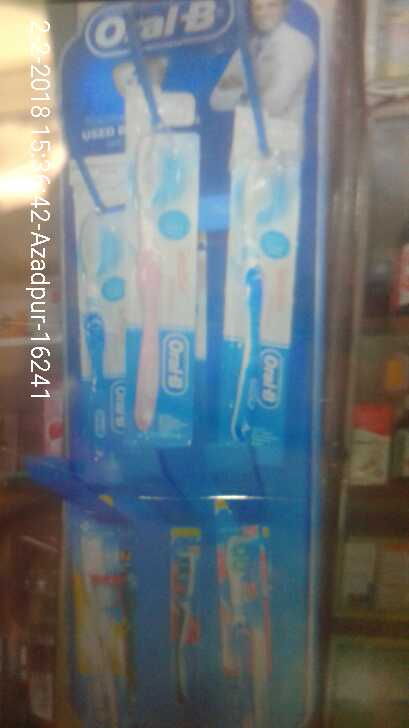oralb: (227, 146, 294, 445), (126, 137, 191, 437), (71, 214, 118, 472)
